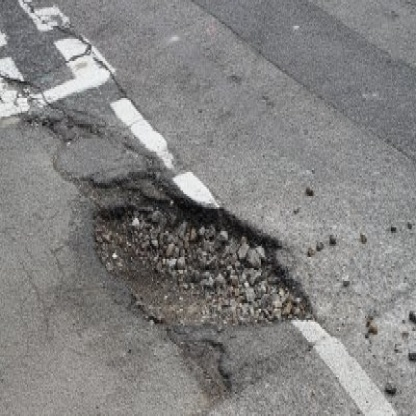pothole: (80, 167, 323, 384)
